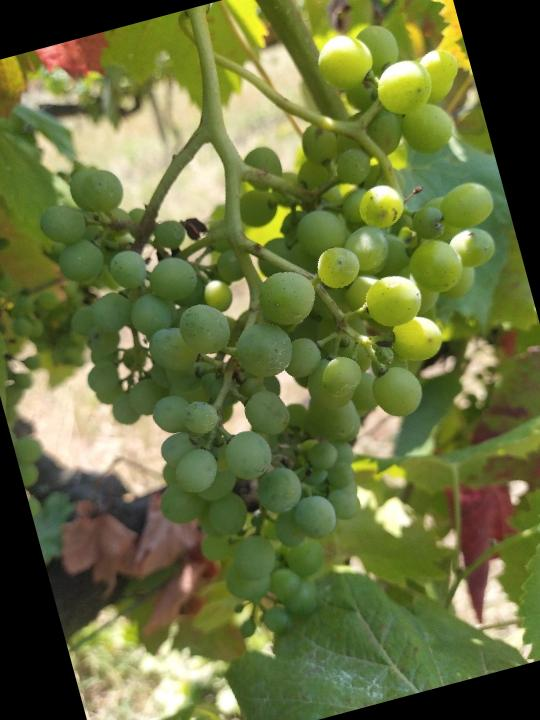grape: (14, 6, 540, 670)
